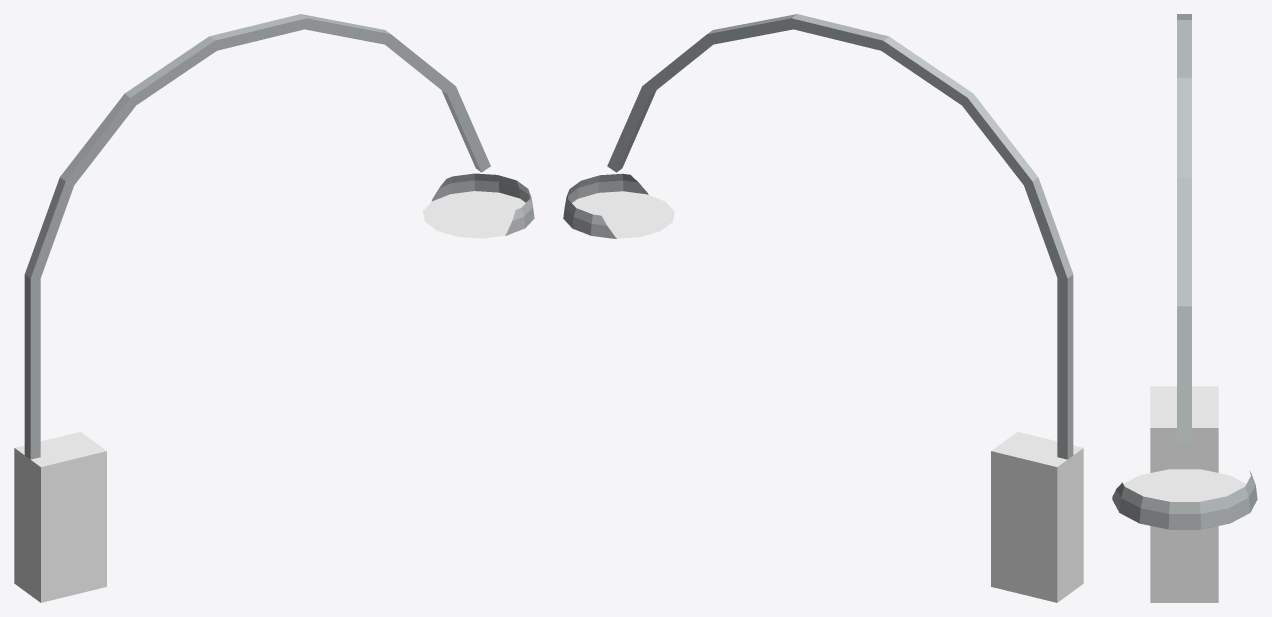
File: flynn_lamp.obj
3 views of the same model, side by side, from view 1: azimuth 30°, elevation 25°; view 2: azimuth 150°, elevation 25°; view 3: azimuth 270°, elevation 25° (orthographic). The views are drawn at different scales.
Parts seen in each view (by area): view 1: cube, cube.000, Sphere, cube.002, cube.001, cube.003, cube.007, cube.006, cube.004, Plane.005_Plane.006, cube.005, Plane.002_Plane.003; view 2: cube, cube.000, Sphere, cube.002, cube.001, cube.003, cube.007, cube.006, cube.004, cube.005, Plane.005_Plane.006, Plane.002_Plane.003; view 3: cube, Sphere, cube.006, cube.005, cube.004, Plane.005_Plane.006, cube.007, Plane.002_Plane.003, Plane.004_Plane.005, Plane.003_Plane.004, Plane_Plane.001, Plane.006_Plane.007.
Part boxes in pixels (x1,y1,x2,y2): cube: (14,431,106,602); cube.000: (24,274,40,459); Sphere: (431,173,534,235); cube.002: (60,94,136,185); cube.001: (25,177,74,280); cube.003: (124,36,218,105); cube.007: (209,14,306,50); cube.006: (441,87,490,172); cube.004: (301,14,390,44); Plane.005_Plane.006: (438,192,519,236); cube.005: (384,34,455,95); Plane.002_Plane.003: (423,201,510,234); cube: (991,431,1083,602); cube.000: (1057,275,1073,459); Sphere: (563,173,648,238); cube.002: (961,94,1037,186); cube.001: (1023,177,1073,279); cube.003: (879,36,973,104); cube.007: (791,14,888,50); cube.006: (607,86,656,172); cube.004: (707,14,796,44); cube.005: (642,34,712,94); Plane.005_Plane.006: (578,208,674,221); Plane.002_Plane.003: (615,191,647,238); cube: (1150,386,1218,602); Sphere: (1112,470,1257,529); cube.006: (1177,306,1191,442); cube.005: (1177,178,1191,306); cube.004: (1177,77,1191,177); Plane.005_Plane.006: (1140,469,1203,501); cube.007: (1177,20,1191,77); Plane.002_Plane.003: (1118,475,1246,511); Plane.004_Plane.005: (1123,475,1242,496); Plane.003_Plane.004: (1148,469,1229,498); Plane_Plane.001: (1169,469,1200,481); Plane.006_Plane.007: (1125,486,1256,501).
Size of the model in its own units: 3.06 by 2.99 by 0.601.
